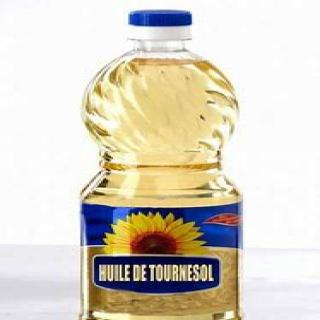Plastic-bottle: (78, 7, 250, 320)
